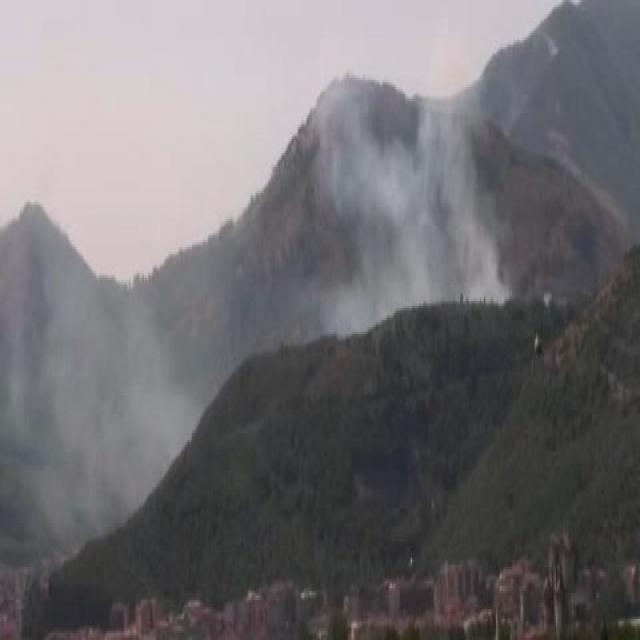smoke: (314, 81, 490, 339), (20, 288, 185, 486)
